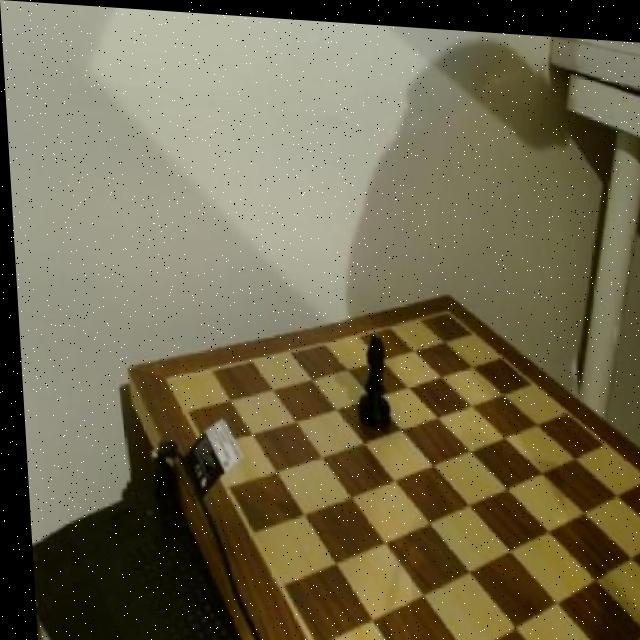black-king: (340, 320, 390, 431)
